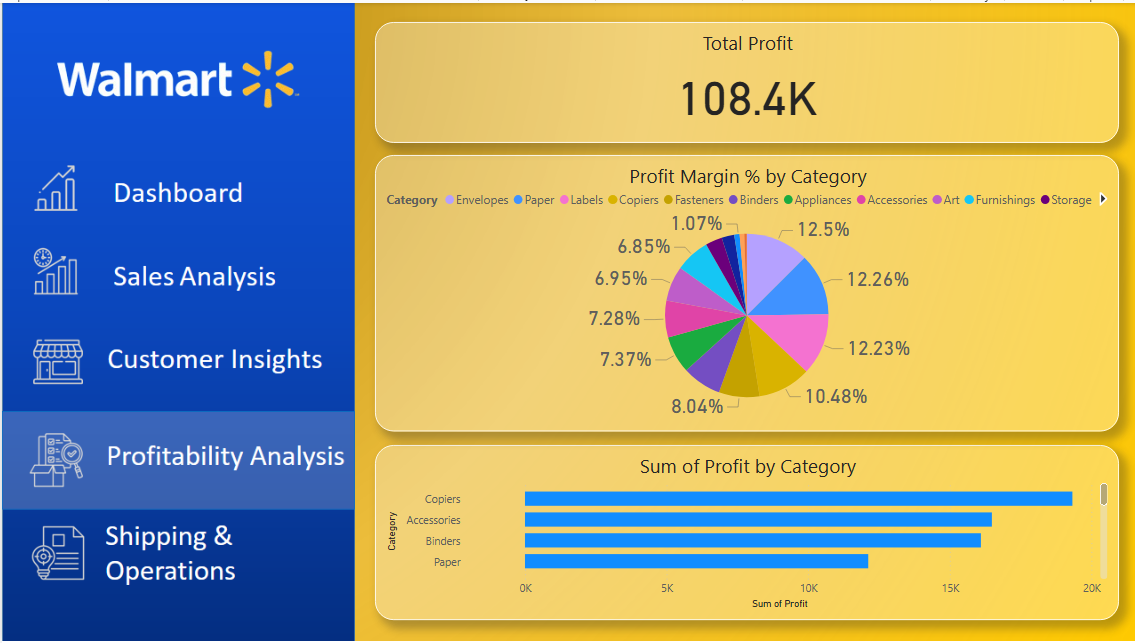

The dashboard page shown, as its layout file describes it:
{"tool":"powerbi","page":{"name":"Profitability Analysis","canvas":[1280,720],"ordinal":3},"visuals":[{"type":"card","title":"Total Profit","fields":{"Values":["Sum(Walmart.Profit)"]},"box":[419.6,21.4,837,136.1],"z":0},{"type":"shape","box":[0,458.6,397.1,111.4],"z":1000},{"type":"actionButton","box":[0,261.4,392.9,85.7],"z":2000},{"type":"actionButton","box":[1.4,157.1,392.9,98.6],"z":3000},{"type":"actionButton","box":[0,347.1,392.9,100],"z":4000},{"type":"actionButton","box":[0,464.3,392.9,100],"z":5000},{"type":"actionButton","box":[0,561.4,392.9,100],"z":6000},{"type":"barChart","fields":{"Category":["Walmart.Category"],"Y":["Sum(Walmart.Profit)"]},"box":[419.6,497.2,837,196.9],"z":7000},{"type":"pieChart","fields":{"Category":["Walmart.Category"],"Y":["Walmart.Profit Margin %"]},"box":[419.6,171,837,310.5],"z":7001}]}

Visuals, with their boxes in screenshot pixels (x1, y1, x2, y2), scaled from the page's 1280x720 canvas onto the 1135x643 screenshot:
"Total Profit" card: [x1=372, y1=19, x2=1114, y2=141]
shape: [x1=0, y1=410, x2=352, y2=509]
actionButton: [x1=0, y1=233, x2=348, y2=310]
actionButton: [x1=1, y1=140, x2=350, y2=228]
actionButton: [x1=0, y1=310, x2=348, y2=399]
actionButton: [x1=0, y1=415, x2=348, y2=504]
actionButton: [x1=0, y1=501, x2=348, y2=591]
barChart - Walmart.Category x Sum(Walmart.Profit): [x1=372, y1=444, x2=1114, y2=620]
pieChart - Walmart.Category x Walmart.Profit Margin %: [x1=372, y1=153, x2=1114, y2=430]
